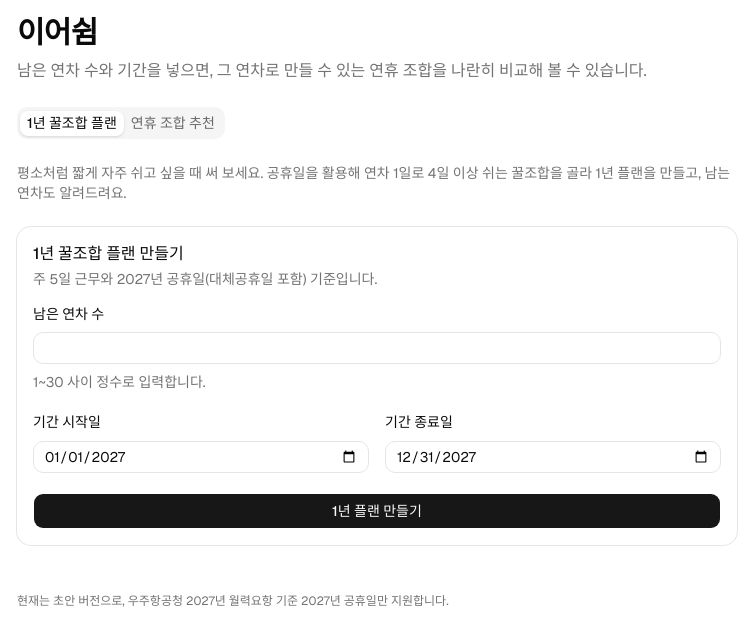
Scenario: 탭과 1년 꿀조합 플랜 화면 › 탭을 바꾸면 설명도 그 탭의 문구로 바뀐다
Click the tab "연휴 조합 추천".
click(173, 123)  # box [124,110,222,136]
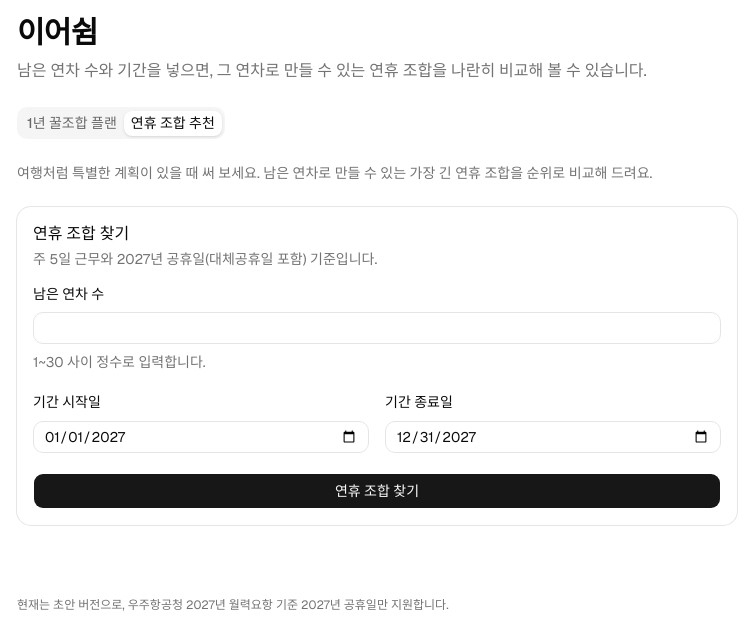
Expected: the text "여행처럼 특별한 계획이 있을 때 써 보세요. 남은 연차로 만들 수 있는 가장 긴 연휴 조합을 순위로 비교해 드려요." is shown, [17,163,737,183]
Expected: the text "평소처럼 짧게 자주 쉬고 싶을 때 써 보세요. 공휴일을 활용해 연차 1일로 4일 이상 쉬는 꿀조합을 골라 1년 플랜을 만들고, 남는 연차도 알려드려요." is gone
Click the tab "1년 꿀조합 플랜".
click(72, 123)  # box [20,110,124,136]
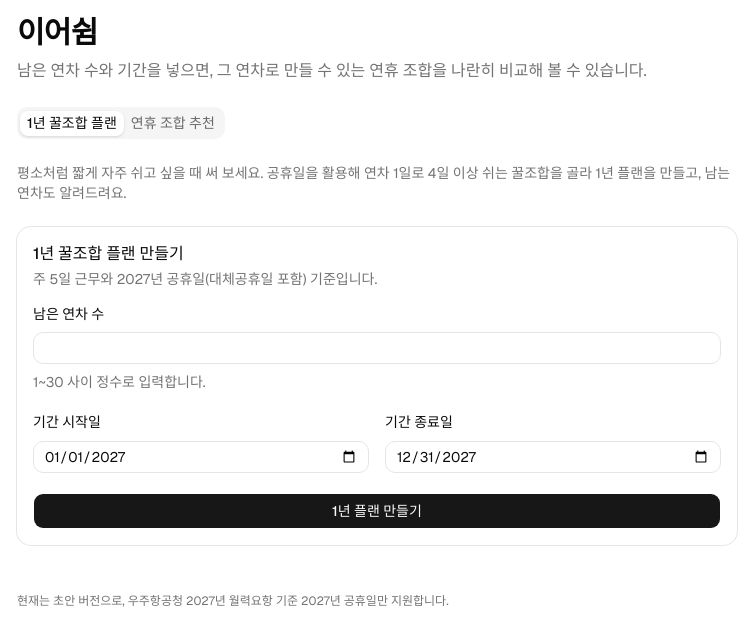
Expected: the text "평소처럼 짧게 자주 쉬고 싶을 때 써 보세요. 공휴일을 활용해 연차 1일로 4일 이상 쉬는 꿀조합을 골라 1년 플랜을 만들고, 남는 연차도 알려드려요." is shown, [17,164,730,202]
Expected: the text "여행처럼 특별한 계획이 있을 때 써 보세요. 남은 연차로 만들 수 있는 가장 긴 연휴 조합을 순위로 비교해 드려요." is gone
